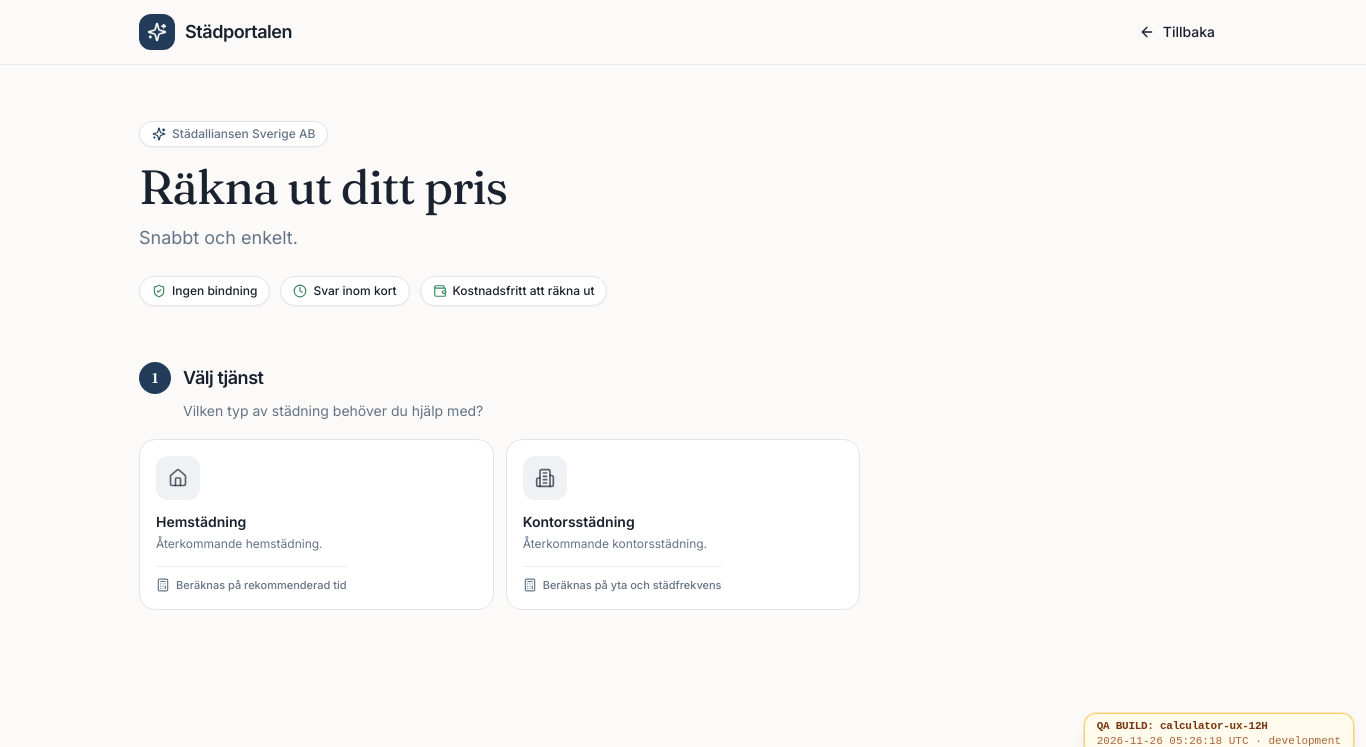
PriceCalculator — office custom interval + supervision (Slice 12F) › renders the office fields in calm, titled sections (Slice 12G grouping)
Step 1. Click the button "Kontorsstädning" → (545,478), box [506,439,860,610]
(page scrolled)
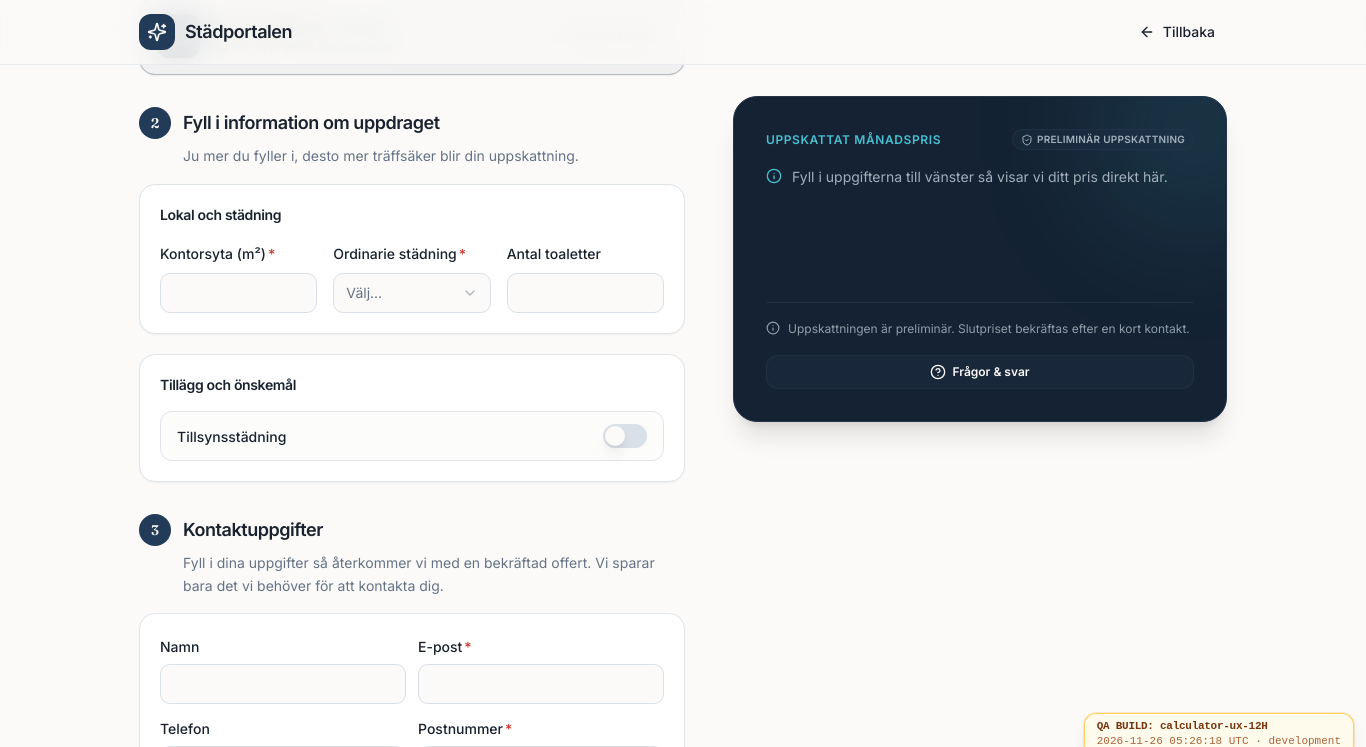
Check: the heading "Lokal och städning" is shown, box [160,206,281,223]
Check: the heading "Tillägg och önskemål" is shown, box [160,376,296,393]
